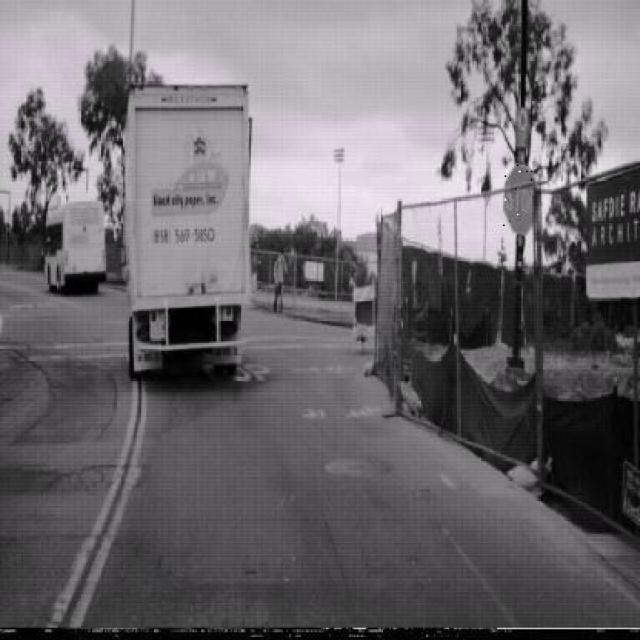stop: (503, 162, 540, 236)
